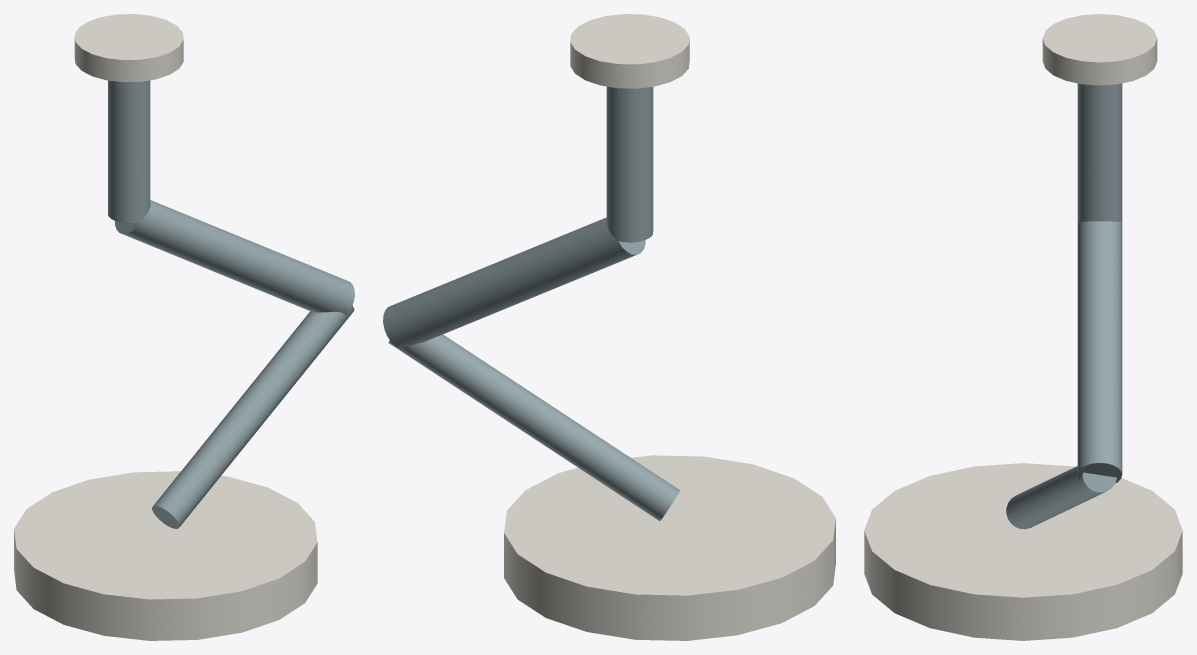
The model's file is surgical-light.glb.
3 renders of one model, left to right at view 1: azimuth 30°, elevation 25°; view 2: azimuth 150°, elevation 25°; view 3: azimuth 270°, elevation 25°, orthographic. The views are drawn at different scales.
Parts seen in each view (by area): view 1: surgical-light; view 2: surgical-light; view 3: surgical-light.
Boxes of the visible parts, <box> form: surgical-light: <box>14,14,354,640</box>; surgical-light: <box>383,14,835,640</box>; surgical-light: <box>864,14,1182,640</box>.
Size of the model in its own units: 0.6685 by 0.94 by 0.5.
10 materials, 10 textured.
